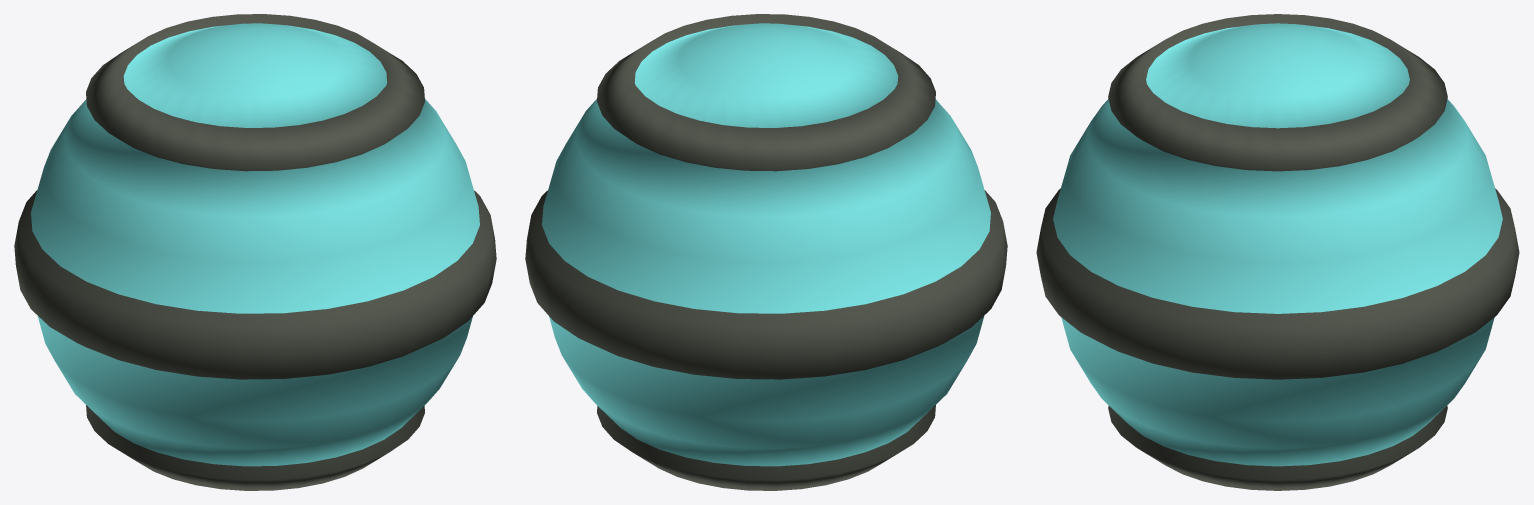
Rendered from Orb.FBX.
The picture shows the model from 3 angles, left to right: view 1: azimuth 30°, elevation 25°; view 2: azimuth 150°, elevation 25°; view 3: azimuth 270°, elevation 25°; orthographic projection.
Parts seen in each view (by area): view 1: Sphere003; view 2: Sphere003; view 3: Sphere003.
Part boxes in pixels (x1=…): Sphere003: x1=14, y1=14, x2=496, y2=490; Sphere003: x1=525, y1=14, x2=1007, y2=490; Sphere003: x1=1036, y1=14, x2=1519, y2=490.
Bounding box in the file's own units: 42.3 × 42.3 × 40.16.
